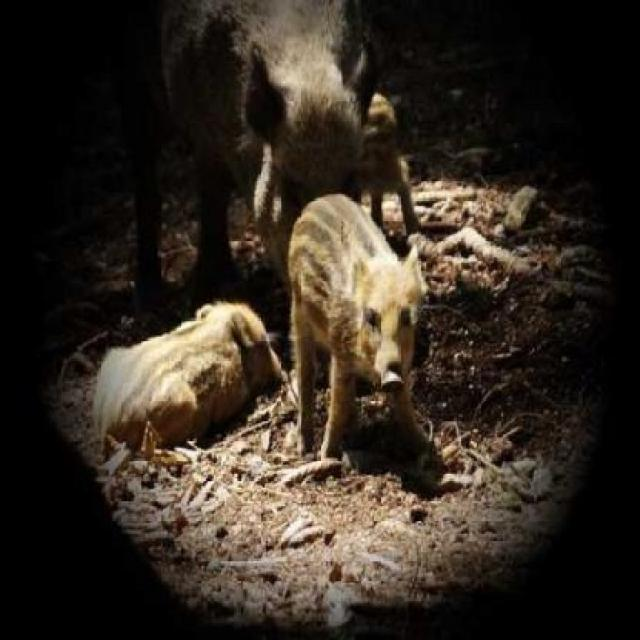pig: (255, 182, 468, 506)
